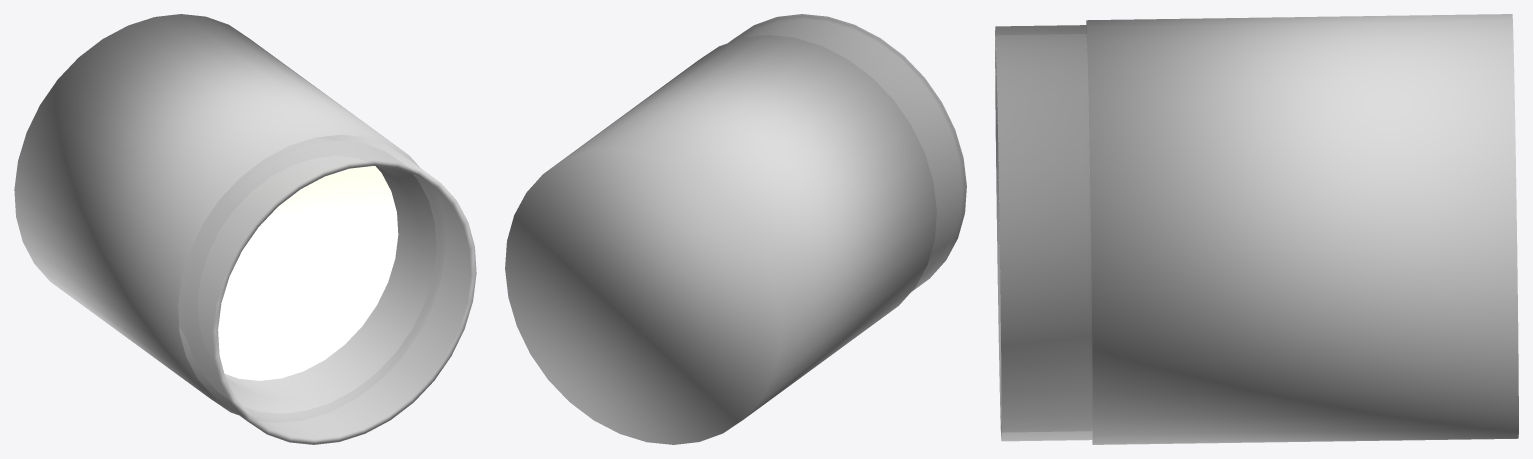
The model's file is spotlight.glb.
The picture shows the model from 3 angles, left to right: view 1: azimuth 30°, elevation 25°; view 2: azimuth 150°, elevation 25°; view 3: azimuth 270°, elevation 25°; orthographic projection. The views are drawn at different scales.
Visible parts, largest first — view 1: Hue Spotlight; view 2: Hue Spotlight; view 3: Hue Spotlight.
Part boxes in pixels (x1=…): Hue Spotlight: x1=14, y1=14, x2=476, y2=444; Hue Spotlight: x1=505, y1=14, x2=966, y2=444; Hue Spotlight: x1=995, y1=14, x2=1518, y2=444.
Size of the model in its own units: 0.1086 by 0.1085 by 0.1321.
